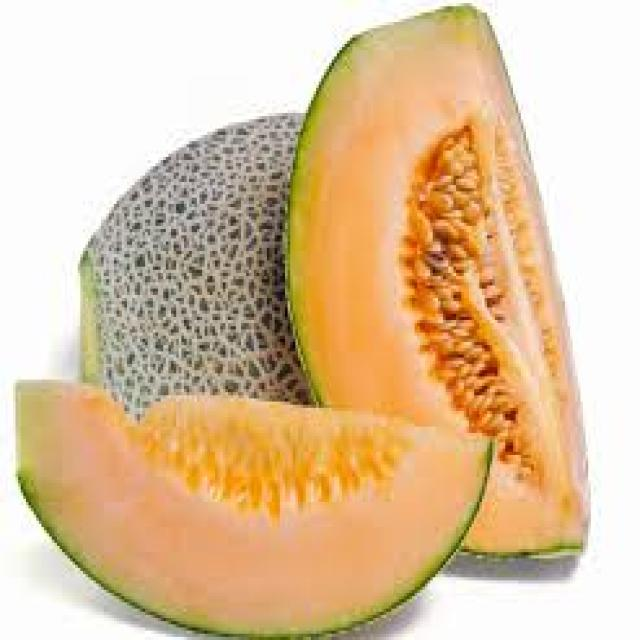cantaloupe: (288, 4, 592, 564), (16, 379, 494, 640)
